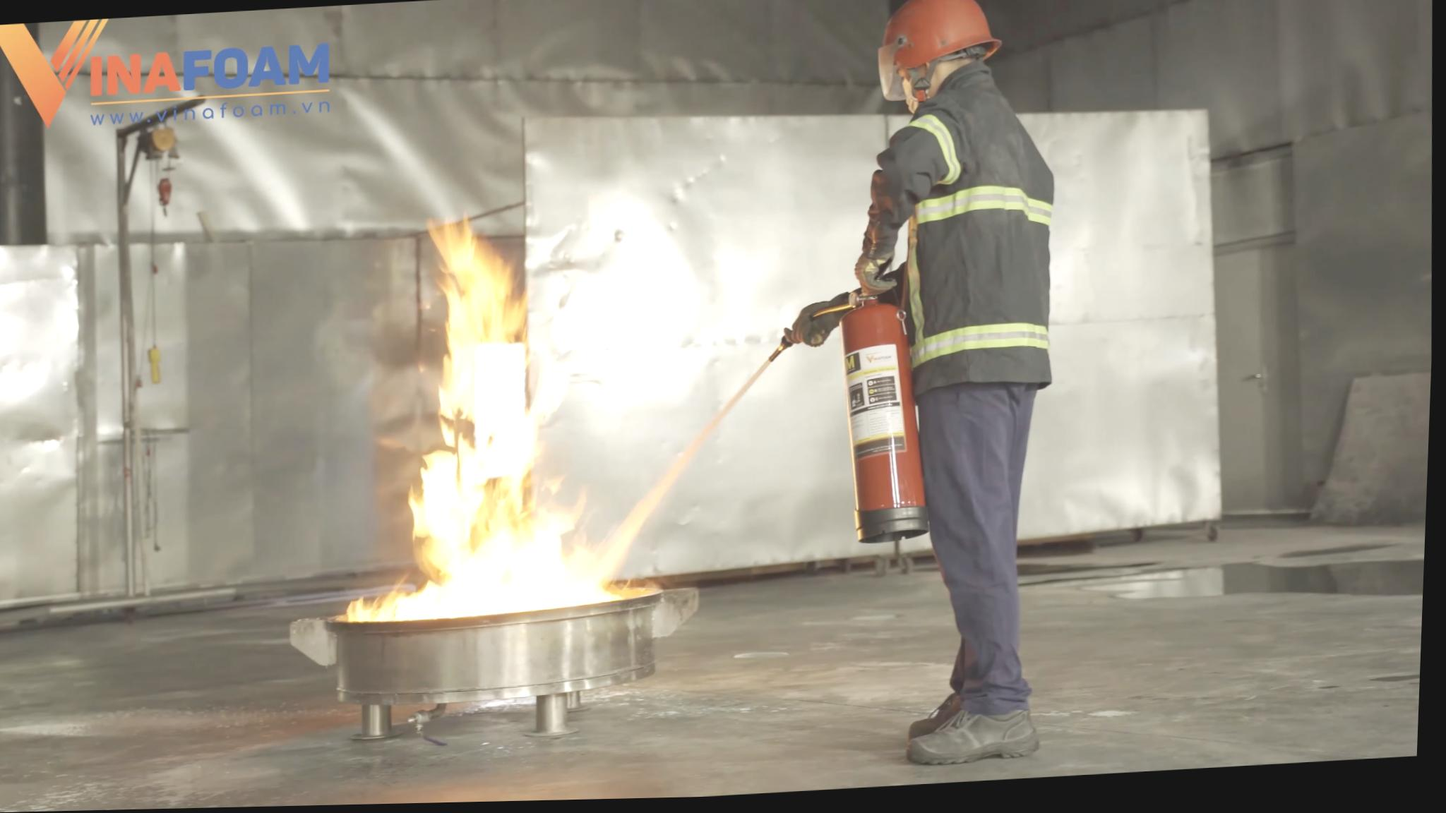FireExtinguisher: (782, 285, 953, 569)
